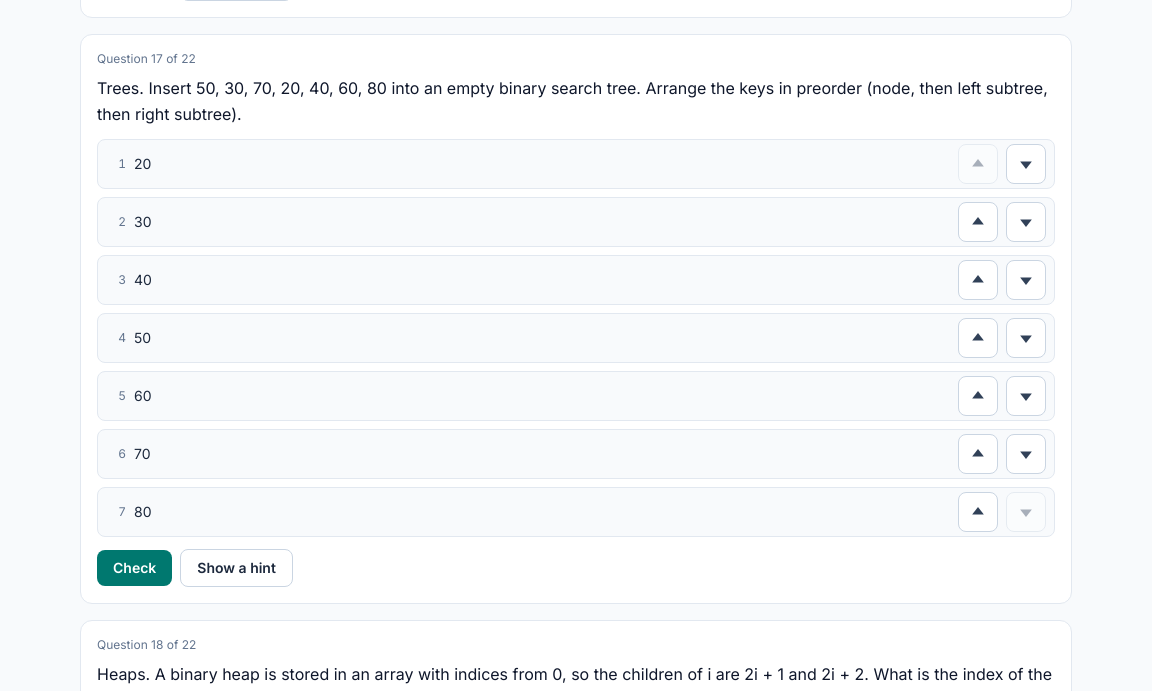
Scenario: review: foundations › orders the BST keys in preorder with the move buttons
(page scrolled)
Click the button named "Move “50” up" at point(978, 338), box [958,318,998,358]
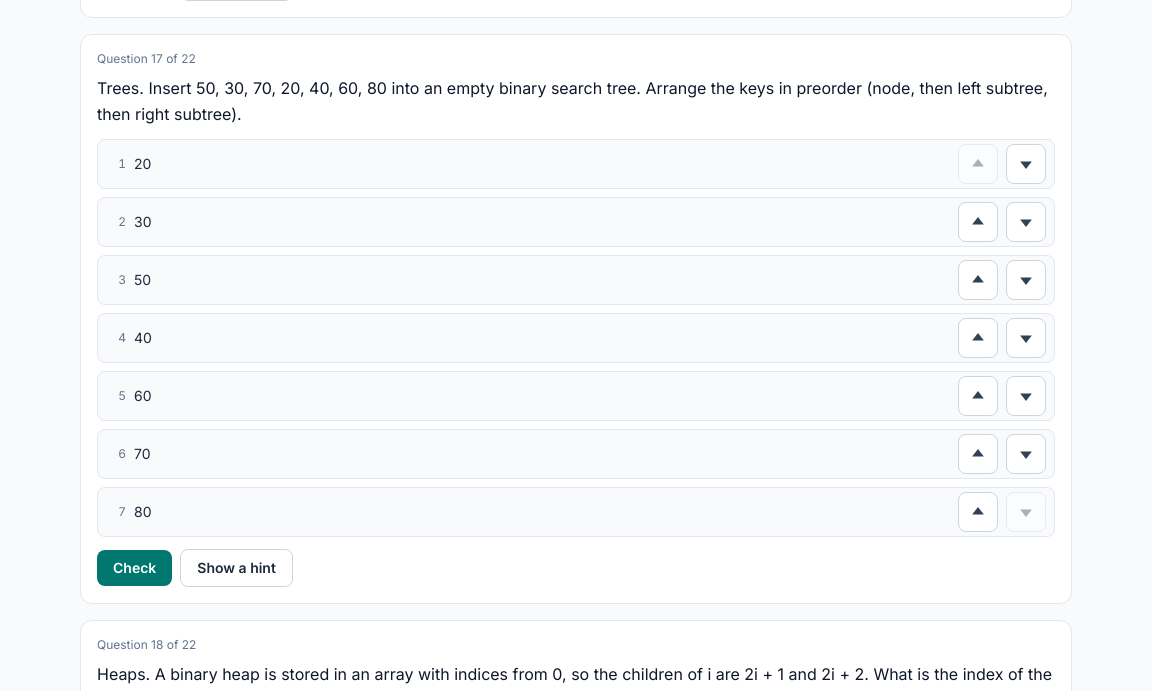
Click the button named "Move “50” up" at point(978, 280), box [958,260,998,300]
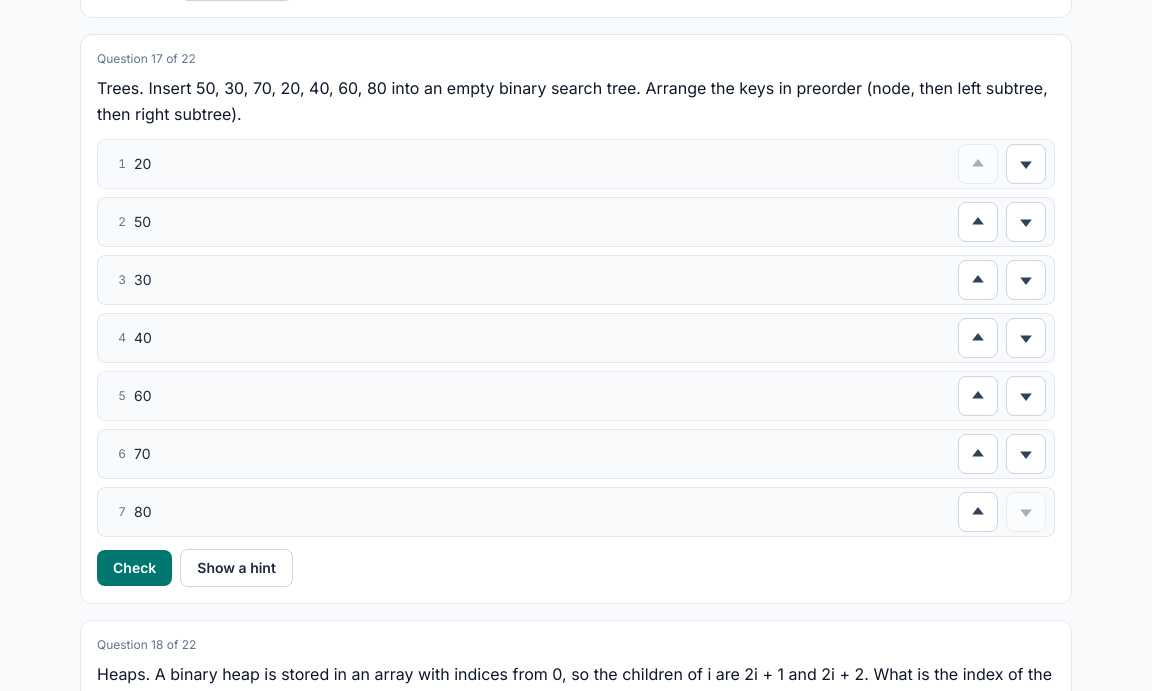
Click the button named "Move “50” up" at point(978, 222), box [958,202,998,242]
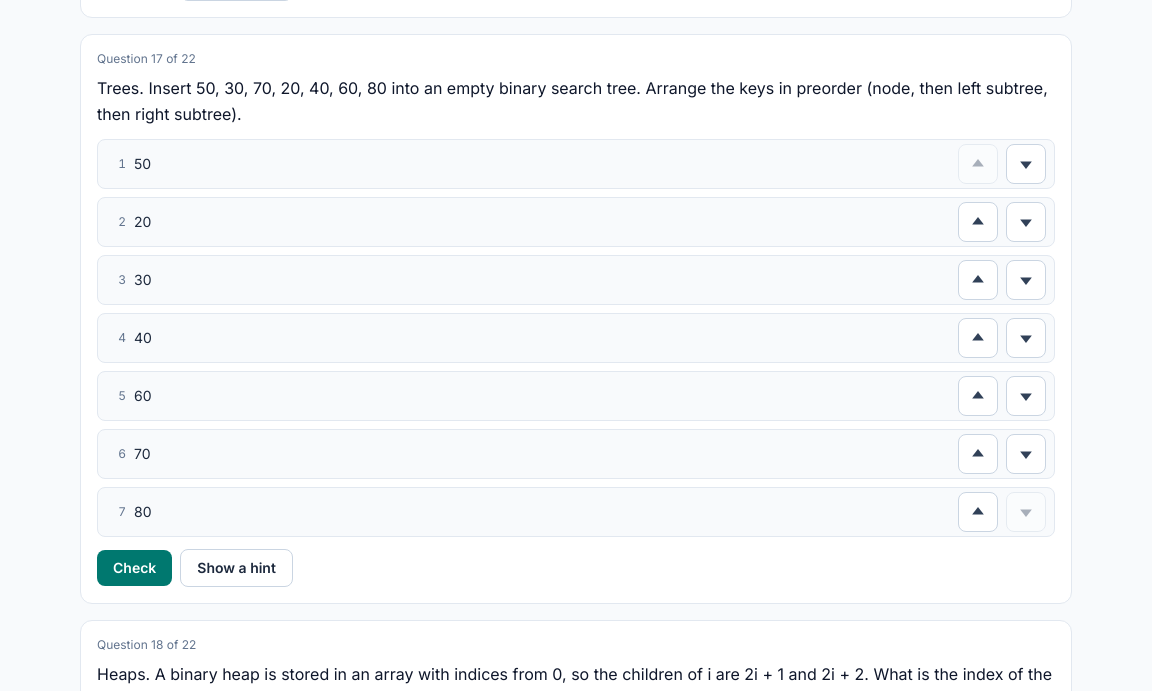
Click the button named "Move “30” up" at point(978, 280), box [958,260,998,300]
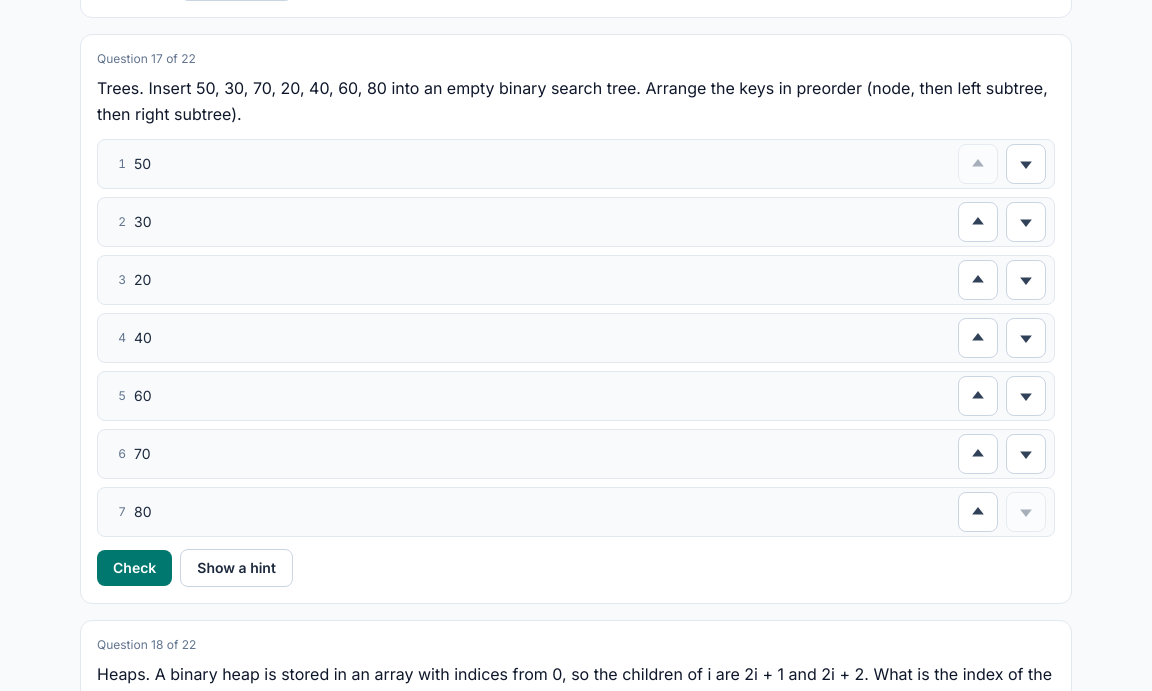
Click the button named "Move “70” up" at point(978, 454), box [958,434,998,474]
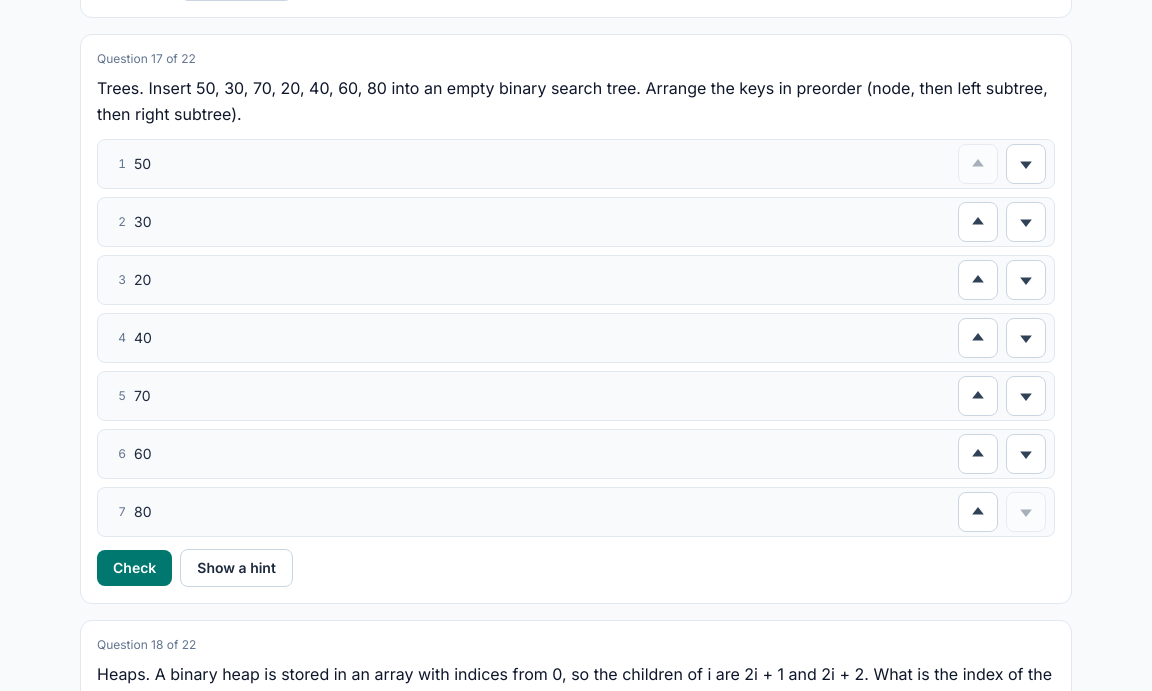
Submit the form "1 50 2 30 3 20 4 40 5 70 6 60 7 80 Check Show a hint", box [97,139,1055,587]
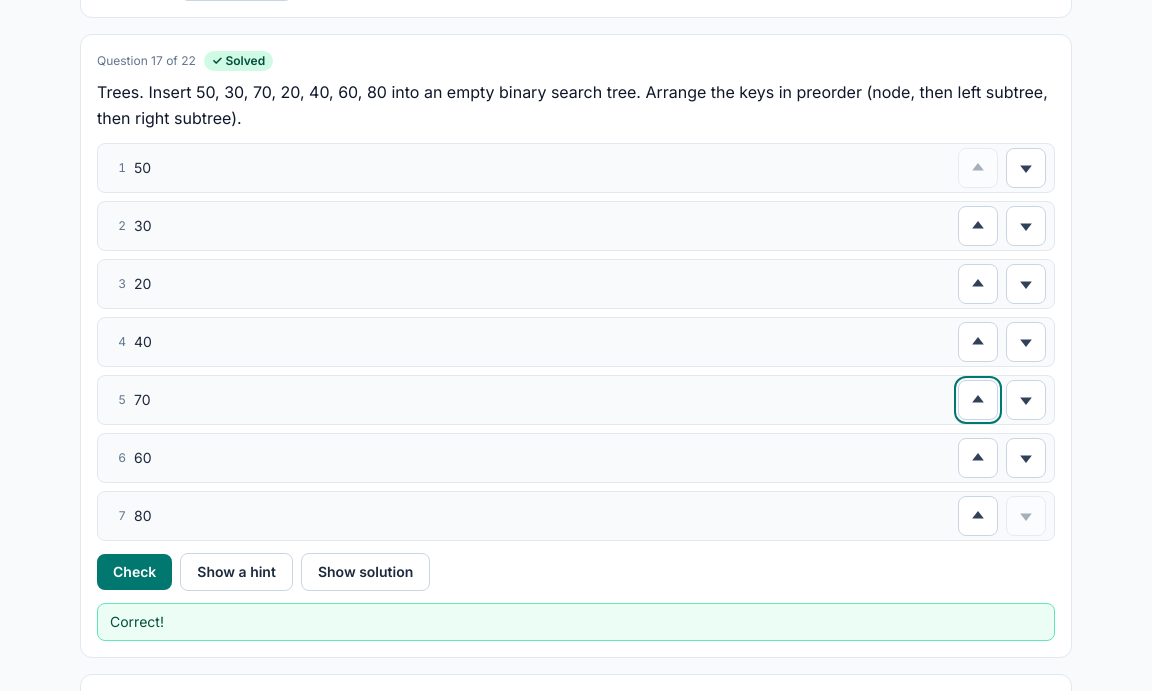
Check: the list item that starts with "Question 17 of 22" shows "Correct!", box [110,613,164,630]
